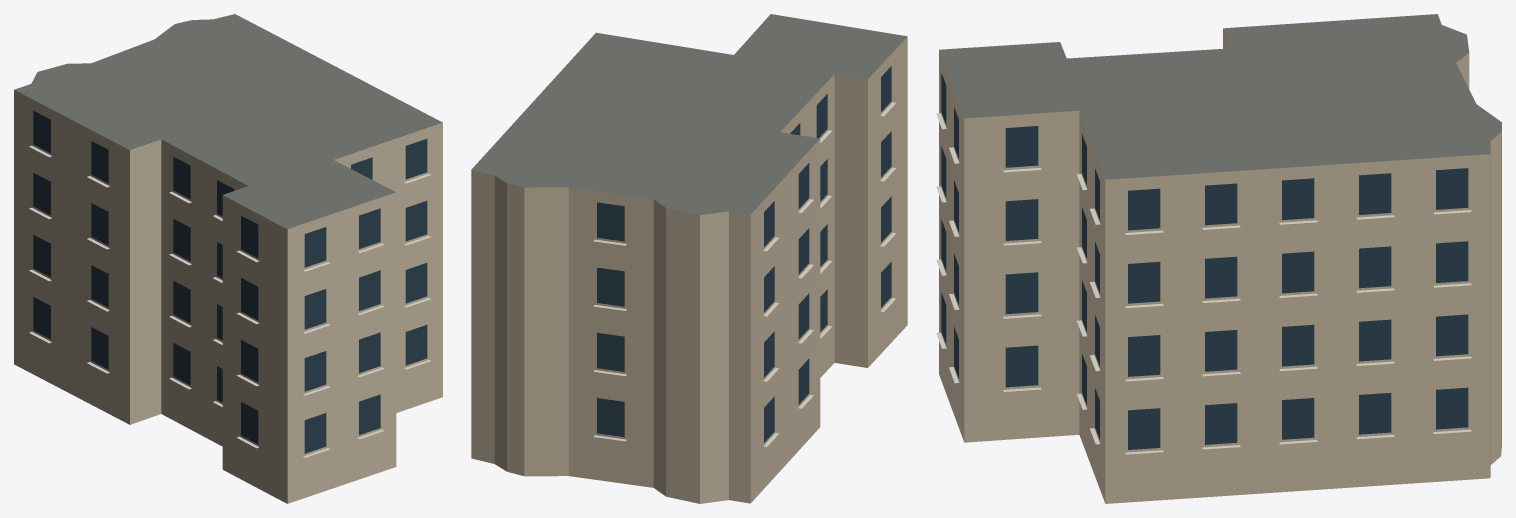
3 views of the same model, side by side, from view 1: azimuth 30°, elevation 25°; view 2: azimuth 150°, elevation 25°; view 3: azimuth 270°, elevation 25° (orthographic). The views are drawn at different scales.
Parts seen in each view (by area): view 1: Footprint 0, Inferred window bays, Window sills; view 2: Footprint 0, Inferred window bays, Window sills; view 3: Footprint 0, Inferred window bays, Window sills.
Part boxes in pixels (x1,y1,x2,y2): Footprint 0: (14,14,442,503); Inferred window bays: (33,111,427,453); Window sills: (29,145,430,457); Footprint 0: (471,14,907,503); Inferred window bays: (597,66,891,442); Window sills: (593,102,896,446); Footprint 0: (939,14,1501,503); Inferred window bays: (941,73,1468,449); Window sills: (936,113,1471,454).
Size of the model in its own units: 14.91 by 13.46 by 21.29.
